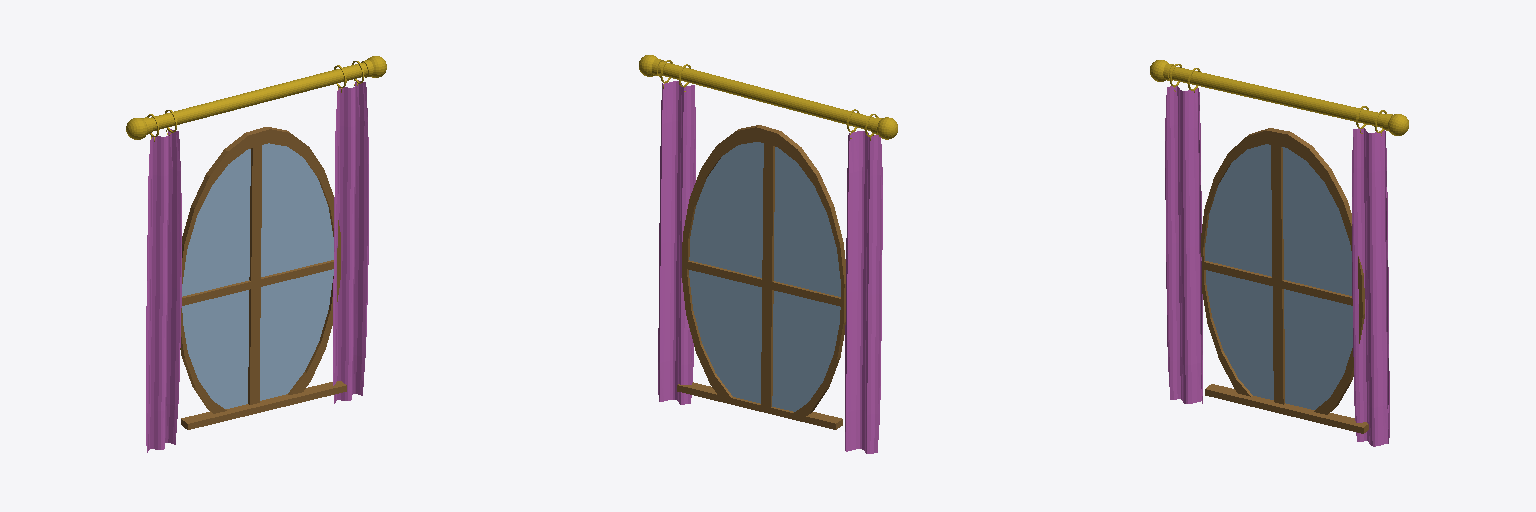
The picture shows the model from 3 angles: view 1: azimuth 30°, elevation 25°; view 2: azimuth 150°, elevation 25°; view 3: azimuth 330°, elevation 25°; orthographic projection.
Parts seen in each view (by area): view 1: Mesh14Group1Model, Mesh9Group7Group6Group2Group1Model, Mesh4Group5Group4Group2Group1Model, Mesh1Group3Group2Group1Model; view 2: Mesh14Group1Model, Mesh9Group7Group6Group2Group1Model, Mesh4Group5Group4Group2Group1Model, Mesh1Group3Group2Group1Model; view 3: Mesh14Group1Model, Mesh9Group7Group6Group2Group1Model, Mesh4Group5Group4Group2Group1Model, Mesh1Group3Group2Group1Model.
Boxes of the visible parts, box(x1,y1,x2,y2) form: Mesh14Group1Model: box(180, 127, 346, 429); Mesh9Group7Group6Group2Group1Model: box(146, 129, 181, 452); Mesh4Group5Group4Group2Group1Model: box(333, 80, 368, 403); Mesh1Group3Group2Group1Model: box(141, 60, 373, 134); Mesh14Group1Model: box(677, 125, 845, 429); Mesh9Group7Group6Group2Group1Model: box(845, 131, 882, 453); Mesh4Group5Group4Group2Group1Model: box(658, 81, 695, 404); Mesh1Group3Group2Group1Model: box(652, 58, 881, 134); Mesh14Group1Model: box(1201, 128, 1368, 433); Mesh9Group7Group6Group2Group1Model: box(1165, 86, 1202, 403); Mesh4Group5Group4Group2Group1Model: box(1352, 128, 1389, 446); Mesh1Group3Group2Group1Model: box(1163, 63, 1392, 130).
Size of the model in its own units: 1.69 by 2.14 by 0.1474.
Materials: 4 (4 with a texture image).